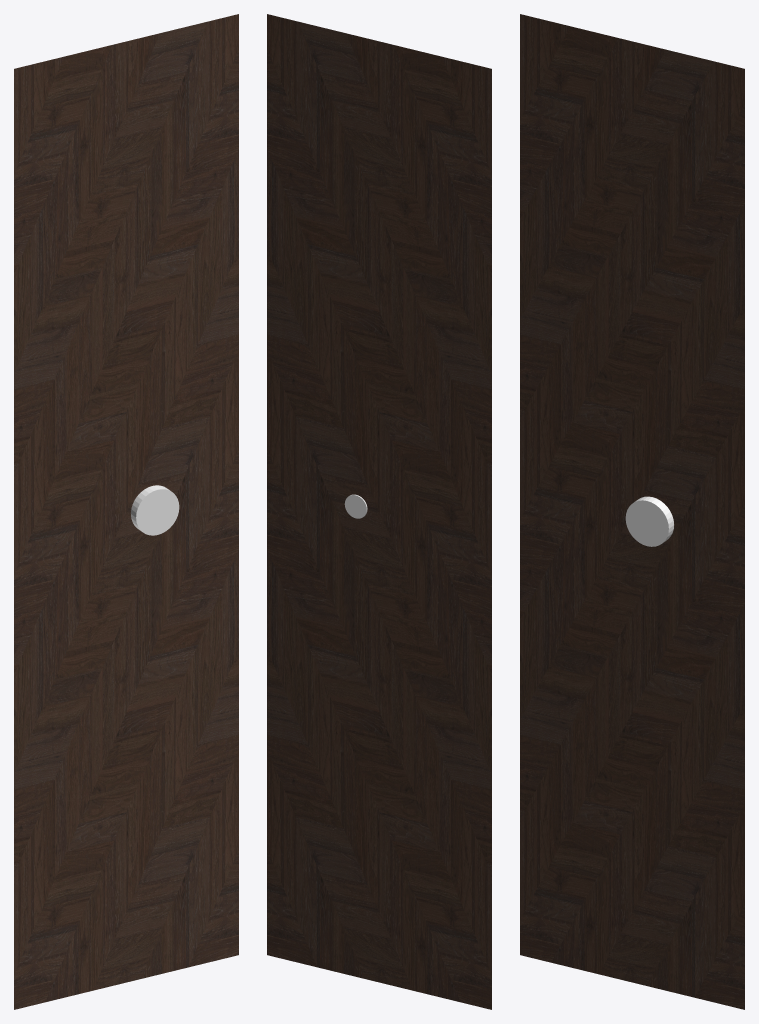
The model's file is door-left.glb.
3 renders of one model, left to right at view 1: azimuth 30°, elevation 25°; view 2: azimuth 150°, elevation 25°; view 3: azimuth 330°, elevation 25°, orthographic.
Parts seen in each view (by area): view 1: door-left; view 2: door-left; view 3: door-left.
Boxes of the visible parts, x1=… form: door-left: x1=14, y1=14, x2=238, y2=1009; door-left: x1=267, y1=14, x2=491, y2=1009; door-left: x1=520, y1=14, x2=744, y2=1009.
Size of the model in its own units: 1.88 by 7.52 by 0.1294.
2 materials, 1 textured.
